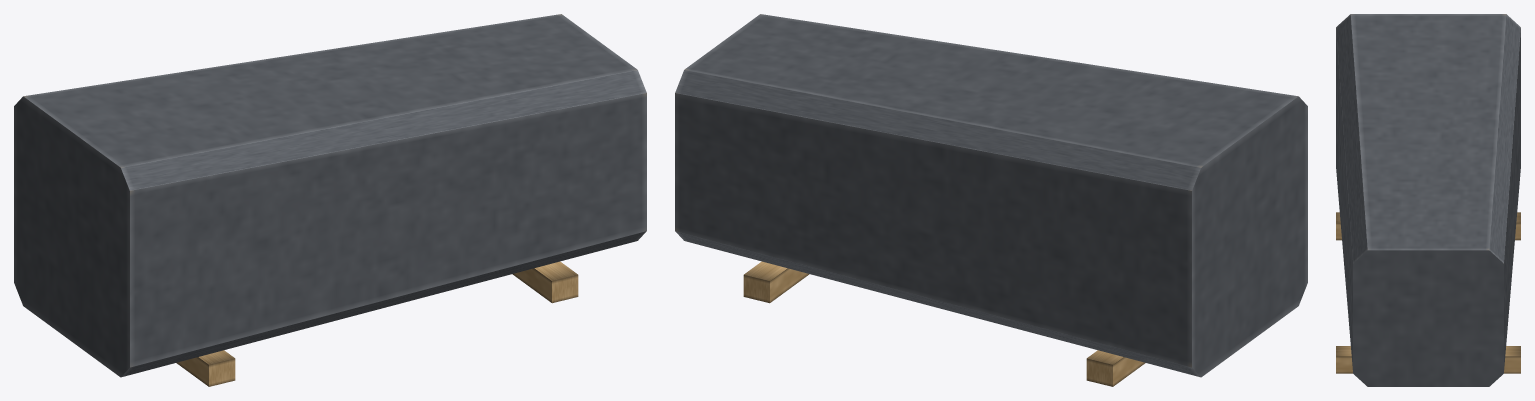
Rendered from ocel_ingot.glb.
3 views of the same model, side by side, from view 1: azimuth 30°, elevation 25°; view 2: azimuth 150°, elevation 25°; view 3: azimuth 270°, elevation 25° (orthographic). The views are drawn at different scales.
Visible parts, largest first — view 1: ocel_ingot; view 2: ocel_ingot; view 3: ocel_ingot.
Boxes of the visible parts, box(x1,y1,x2,y2) form: ocel_ingot: box(14, 14, 646, 386); ocel_ingot: box(675, 14, 1307, 386); ocel_ingot: box(1336, 14, 1520, 386).
Bounding box in the file's own units: 2 × 0.84 × 0.7601.
Materials: 1 (1 with a texture image).
